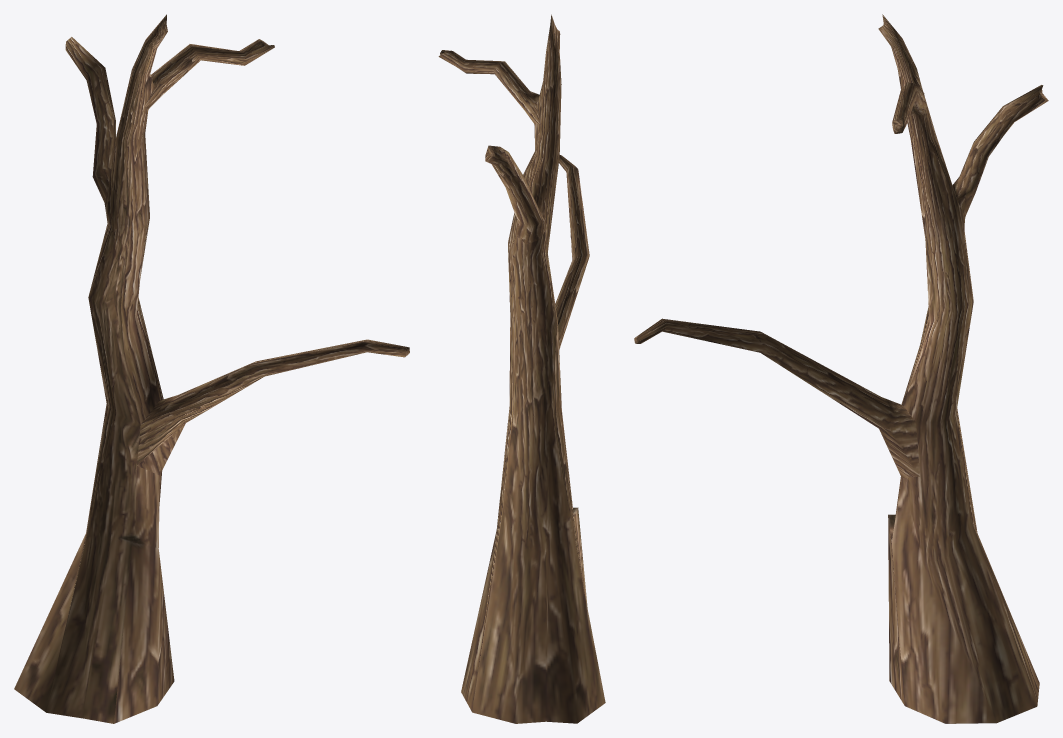
File: tree_1.obj
3 views of the same model, side by side, from view 1: azimuth 30°, elevation 25°; view 2: azimuth 150°, elevation 25°; view 3: azimuth 270°, elevation 25° (orthographic). The views are drawn at different scales.
Visible parts, largest first — view 1: Trees_pack; view 2: Trees_pack; view 3: Trees_pack.
Part boxes in pixels (x1,y1,x2,y2): Trees_pack: (14, 14, 409, 723); Trees_pack: (438, 14, 605, 723); Trees_pack: (634, 14, 1048, 723).
Bounding box in the file's own units: 1.66 × 5.34 × 2.9.
